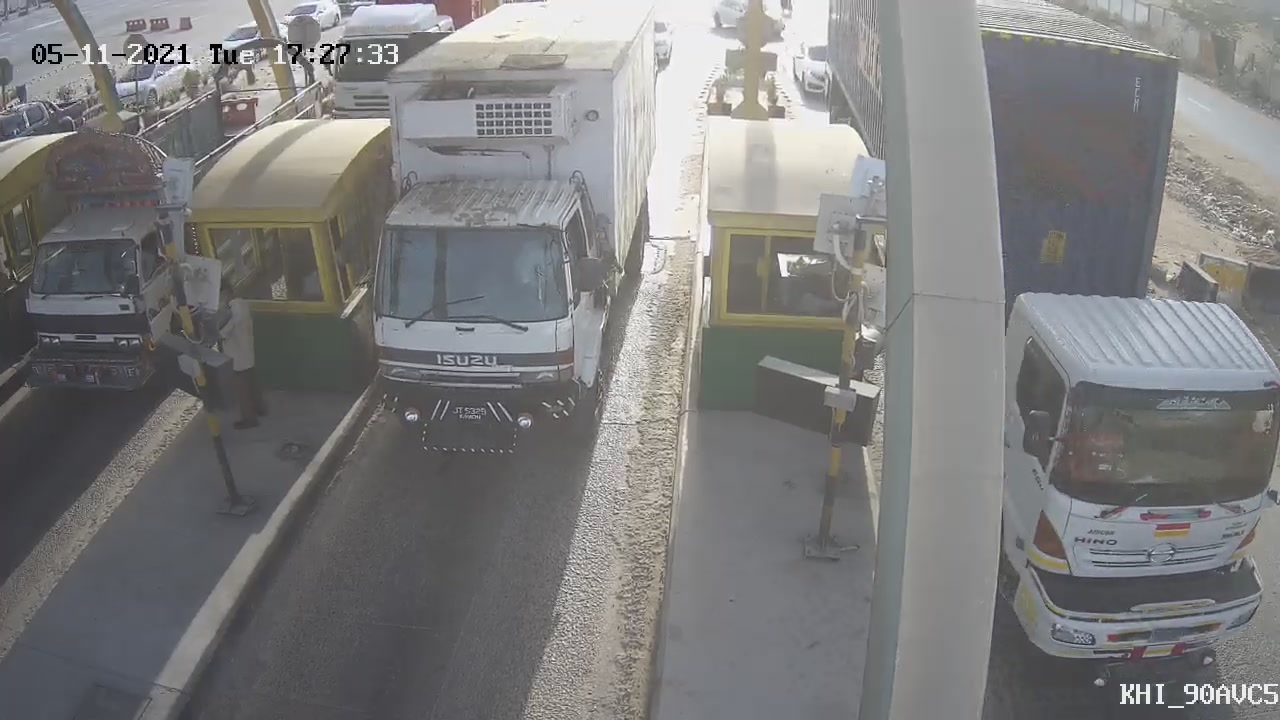F5: (313, 1, 664, 463)
